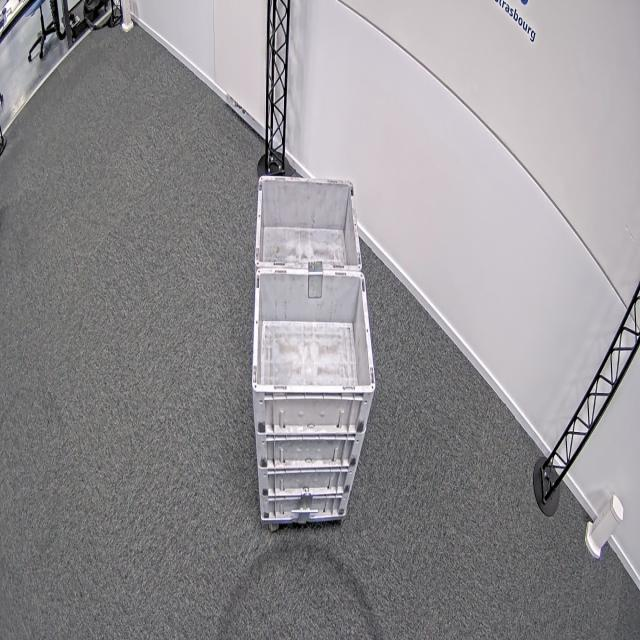Roll8G: (249, 173, 379, 400)
